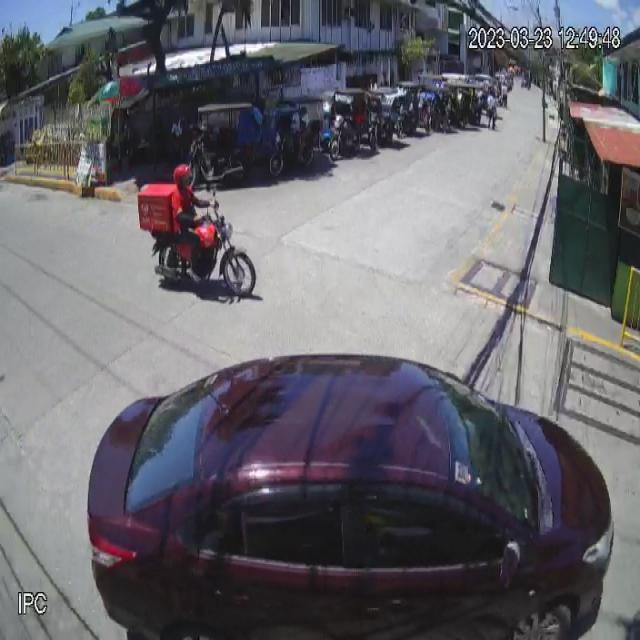Car: (82, 344, 613, 640)
Motorcycle: (144, 198, 260, 306)
